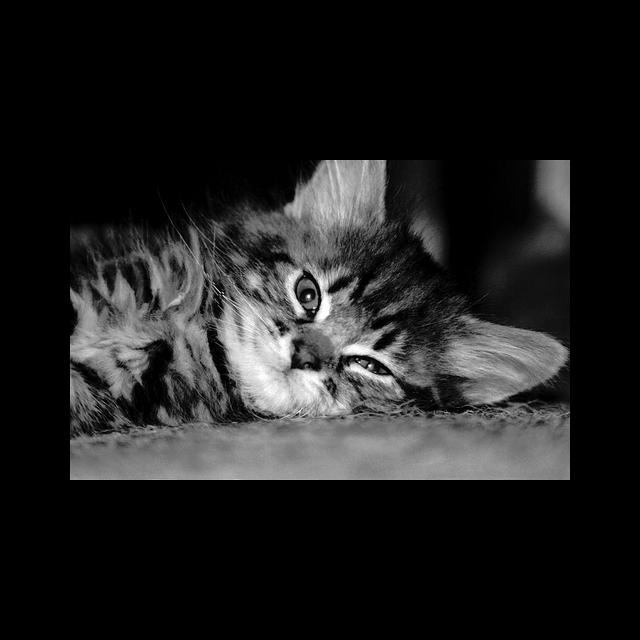animals: (284, 160, 567, 409)
